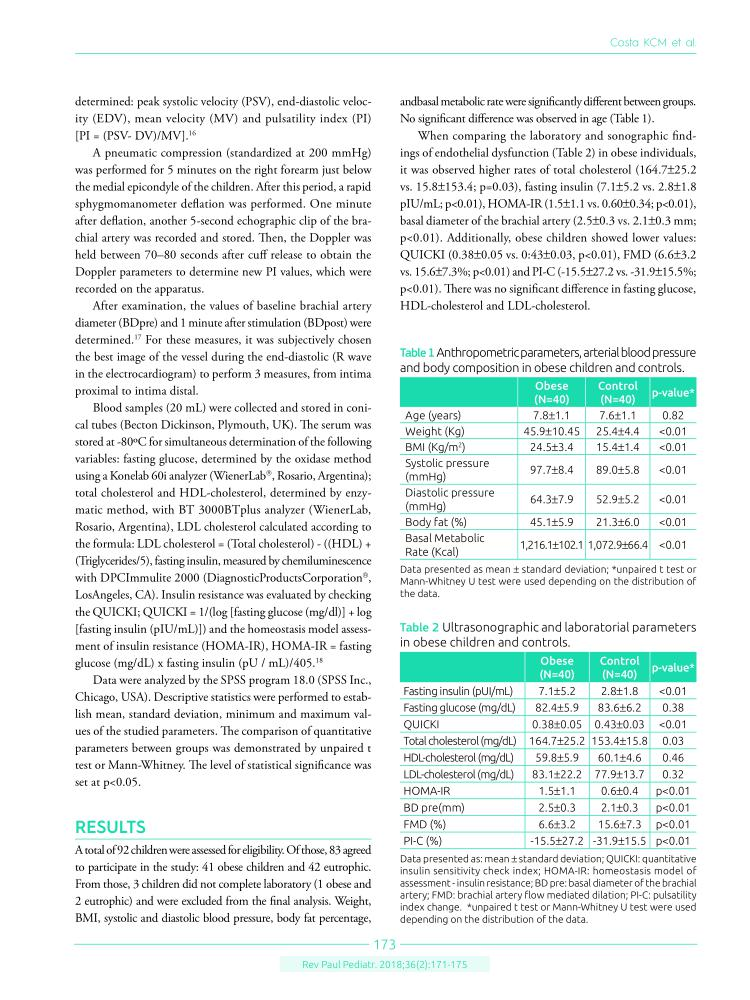table: (403, 654, 694, 848), (405, 379, 694, 557)
